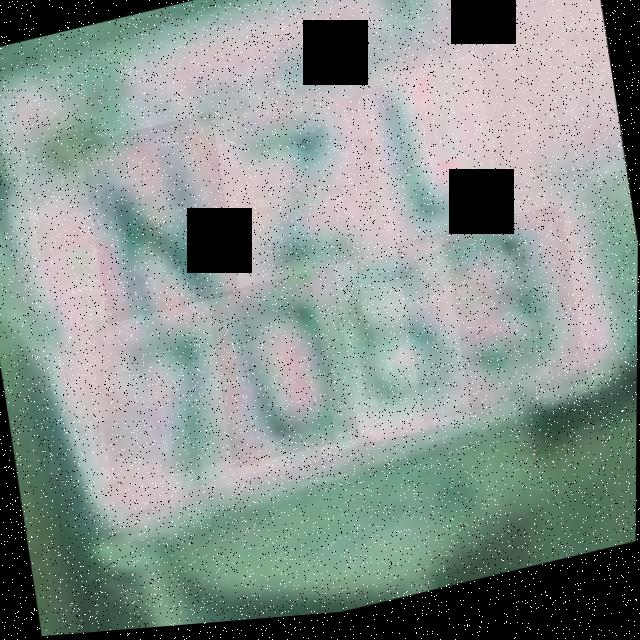0: (207, 270, 362, 474)
3: (395, 211, 591, 431)
6: (310, 244, 474, 458)
7: (87, 290, 246, 492)
J: (362, 60, 505, 260)
N: (80, 114, 241, 327)
Z: (225, 101, 374, 283)
